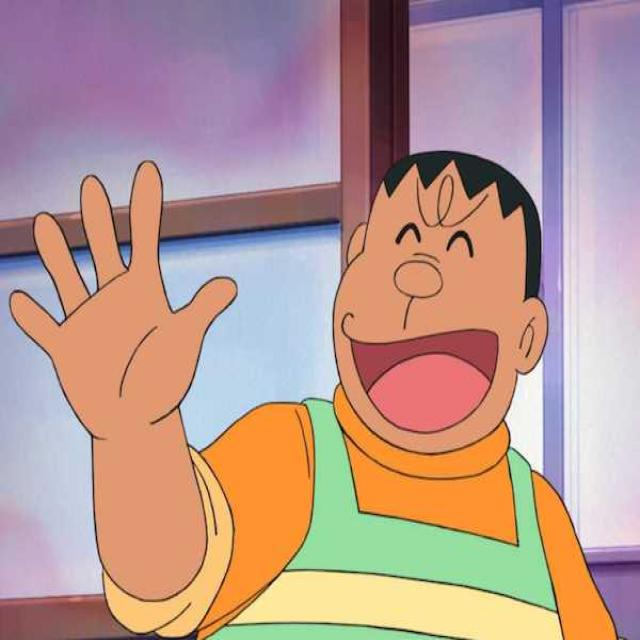jaian: (298, 134, 597, 548)
